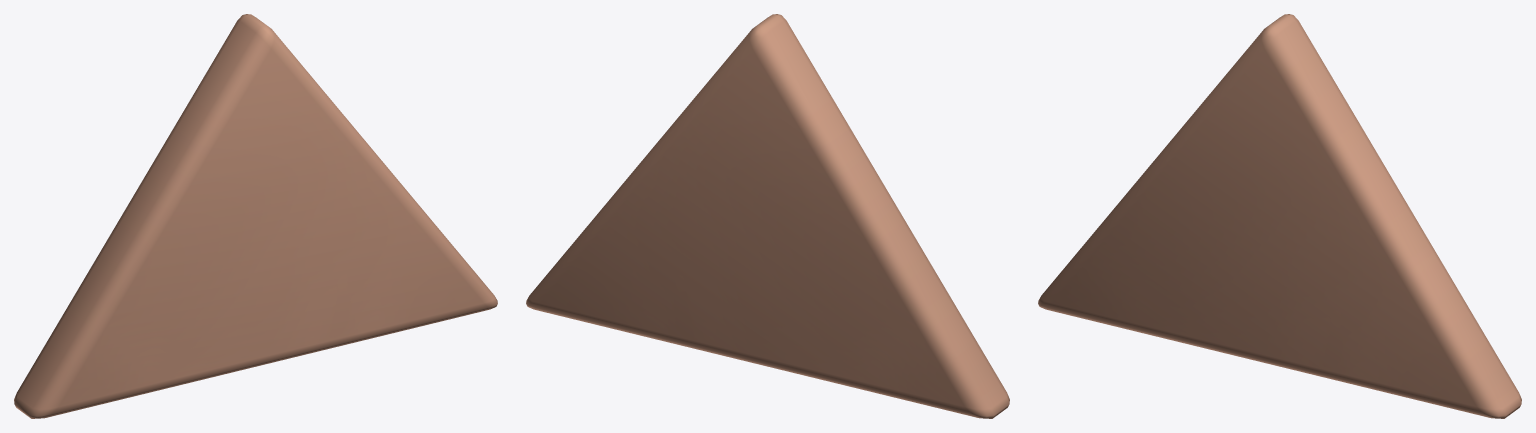
The model's file is Button Arrow.fbx.
3 renders of one model, left to right at view 1: azimuth 30°, elevation 25°; view 2: azimuth 150°, elevation 25°; view 3: azimuth 330°, elevation 25°, orthographic.
Parts seen in each view (by area): view 1: Disk.001; view 2: Disk.001; view 3: Disk.001.
Boxes of the visible parts, x1,y1,x2,y2 form: Disk.001: (14, 14, 497, 418); Disk.001: (526, 14, 1009, 418); Disk.001: (1038, 14, 1521, 418).
Bounding box in the file's own units: 75.62 × 52.03 × 8.66.
